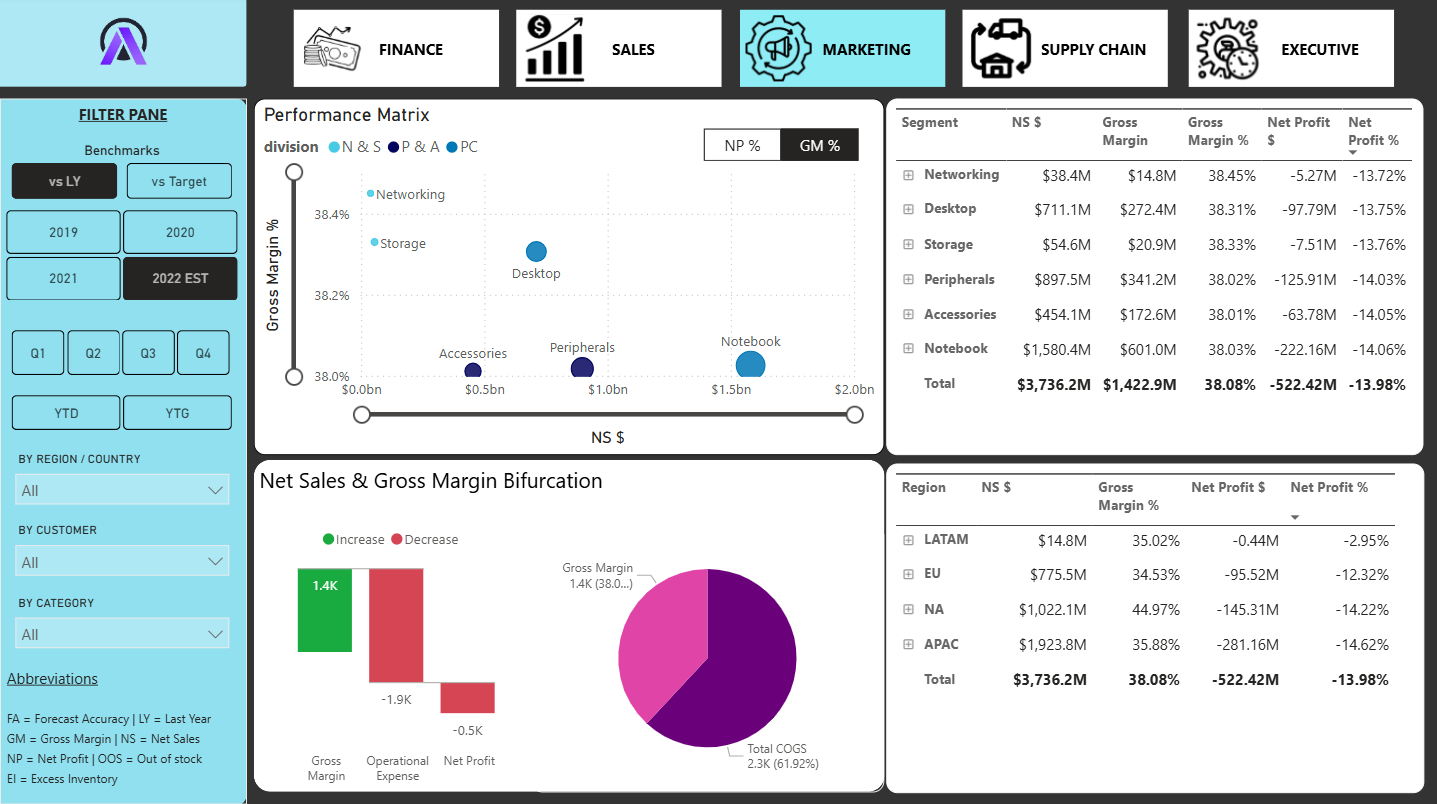

This screenshot's page, from the dashboard's own definition file:
{"tool":"powerbi","page":{"name":"Marketing View","canvas":[1280,720],"ordinal":3},"visuals":[{"type":"shape","box":[0,90.8,219.6,629.5],"z":0,"group":"g2"},{"type":"shape","title":"Net Sales & Gross Margin Bifurcation ","box":[225.8,413.5,562,295.7],"z":0},{"type":"shape","box":[0,0,219.6,81],"z":1000},{"type":"advancedSlicerVisual","fields":{"Values":["fiscal_year.fy_desc"]},"box":[6.1,185.3,206.1,90.8],"z":1000,"group":"g1"},{"type":"scatterChart","title":"Performance Matrix","fields":{"Size":["Measures_table.NS $"],"Category":["dim_product.segment","dim_product.category","dim_product.product"],"Series":["dim_product.division"],"X":["Measures_table.NS $"],"Y":["Measures_table.Gross Margin %"]},"box":[225.8,90.8,562,317.8],"z":2000},{"type":"advancedSlicerVisual","fields":{"Values":["dim_date.fiscal_quarter"]},"box":[6.2,292.3,206,50.3],"z":2000,"group":"g1"},{"type":"pivotTable","fields":{"Rows":["dim_product.segment","dim_product.category","dim_product.product"],"Values":["Measures_table.NS $","Measures_table.Gross Margin","Measures_table.Gross Margin %","Measures_table.Net Profit $","Measures_table.Net Profit %"]},"box":[789.5,90.8,478.5,317.8],"z":3000},{"type":"advancedSlicerVisual","fields":{"Values":["dim_date.ytd_ytg"]},"box":[6.1,350.4,206.1,41.7],"z":3000,"group":"g1"},{"type":"waterfallChart","fields":{"Category":["P&L Rows.Description"],"Y":["Measures_table.P&L"]},"box":[225.8,463.8,247.9,245.4],"z":4000},{"type":"textbox","box":[1.2,592.4,219.6,120.2],"z":4000,"group":"g1"},{"type":"slicer","fields":{"Values":["dim_market.region","dim_market.market"]},"box":[3.7,400,211,56.4],"z":5000,"group":"g1"},{"type":"pieChart","fields":{"Category":["P&L Rows.Description"],"Y":["Measures_table.P&L"]},"box":[473.6,471.2,314.1,238],"z":5000},{"type":"pivotTable","fields":{"Rows":["dim_market.region","dim_market.market"],"Values":["Measures_table.NS $","Measures_table.Gross Margin %","Measures_table.Net Profit $","Measures_table.Net Profit %"]},"box":[789.5,416,479,293.3],"z":6000},{"type":"slicer","fields":{"Values":["dim_customer.customer"]},"box":[3.7,464.3,211,56],"z":6000,"group":"g1"},{"type":"image","box":[0,0,219.6,81],"z":7000},{"type":"slicer","fields":{"Values":["dim_product.category"]},"box":[3.7,528.1,211,56.4],"z":7000,"group":"g1"},{"type":"actionButton","box":[261.1,12.8,182.8,68.7],"z":8000},{"type":"textbox","box":[44.1,90.8,130.1,30.7],"z":8000,"group":"g1"},{"type":"actionButton","box":[459.9,12.8,182.8,68.7],"z":9000},{"type":"advancedSlicerVisual","fields":{"Values":["Select Benchmark.Benchmarks"]},"box":[6.1,129.3,206.1,56.4],"z":9000,"group":"g1"},{"type":"actionButton","box":[658.7,12.8,182.8,68.7],"z":10000},{"type":"actionButton","box":[857.4,12.8,182.8,68.7],"z":11000},{"type":"actionButton","box":[1058.7,12.8,182.8,68.7],"z":12000},{"type":"bookmarkNavigator","box":[626.9,117.9,139,29.8],"z":14000},{"type":"group","id":"g1","title":"Group 1","box":[1.2,90.8,219.6,622.1],"z":14001,"group":"g2"},{"type":"group","id":"g2","title":"Group 2","box":[0,90.8,220.9,629.5],"z":15000},{"type":"textbox","box":[225.8,413.5,337.4,42.9],"z":16000}]}

Visuals, with their boxes in screenshot pixels (x1, y1, x2, y2), scaled from the page's 1280x720 canvas onto the 1437x804 screenshot:
shape: region(0, 101, 247, 803)
"Net Sales & Gross Margin Bifurcation " shape: region(253, 462, 884, 792)
shape: region(0, 0, 247, 90)
advancedSlicerVisual - fiscal_year.fy_desc: region(7, 207, 238, 308)
"Performance Matrix" scatterChart: region(253, 101, 884, 456)
advancedSlicerVisual - dim_date.fiscal_quarter: region(7, 326, 238, 383)
pivotTable - dim_product.segment x dim_product.category: region(886, 101, 1424, 456)
advancedSlicerVisual - dim_date.ytd_ytg: region(7, 391, 238, 438)
waterfallChart - P&L Rows.Description x Measures_table.P&L: region(253, 518, 532, 792)
textbox: region(1, 662, 248, 796)
slicer - dim_market.region x dim_market.market: region(4, 447, 241, 510)
pieChart - P&L Rows.Description x Measures_table.P&L: region(532, 526, 884, 792)
pivotTable - dim_market.region x dim_market.market: region(886, 465, 1424, 792)
slicer - dim_customer.customer: region(4, 518, 241, 581)
image: region(0, 0, 247, 90)
slicer - dim_product.category: region(4, 590, 241, 653)
actionButton: region(293, 14, 498, 91)
textbox: region(50, 101, 196, 136)
actionButton: region(516, 14, 722, 91)
advancedSlicerVisual - Select Benchmark.Benchmarks: region(7, 144, 238, 207)
actionButton: region(739, 14, 945, 91)
actionButton: region(963, 14, 1168, 91)
actionButton: region(1189, 14, 1394, 91)
bookmarkNavigator: region(704, 132, 860, 165)
"Group 1" group: region(1, 101, 248, 796)
"Group 2" group: region(0, 101, 248, 803)
textbox: region(253, 462, 632, 510)
